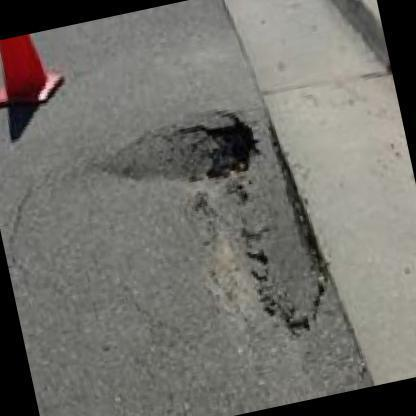pothole: (103, 110, 263, 184)
